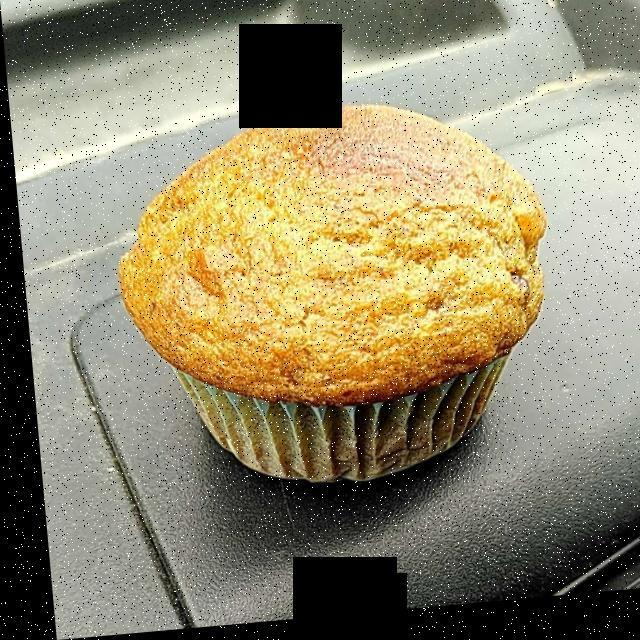muffin: (118, 111, 534, 409)
